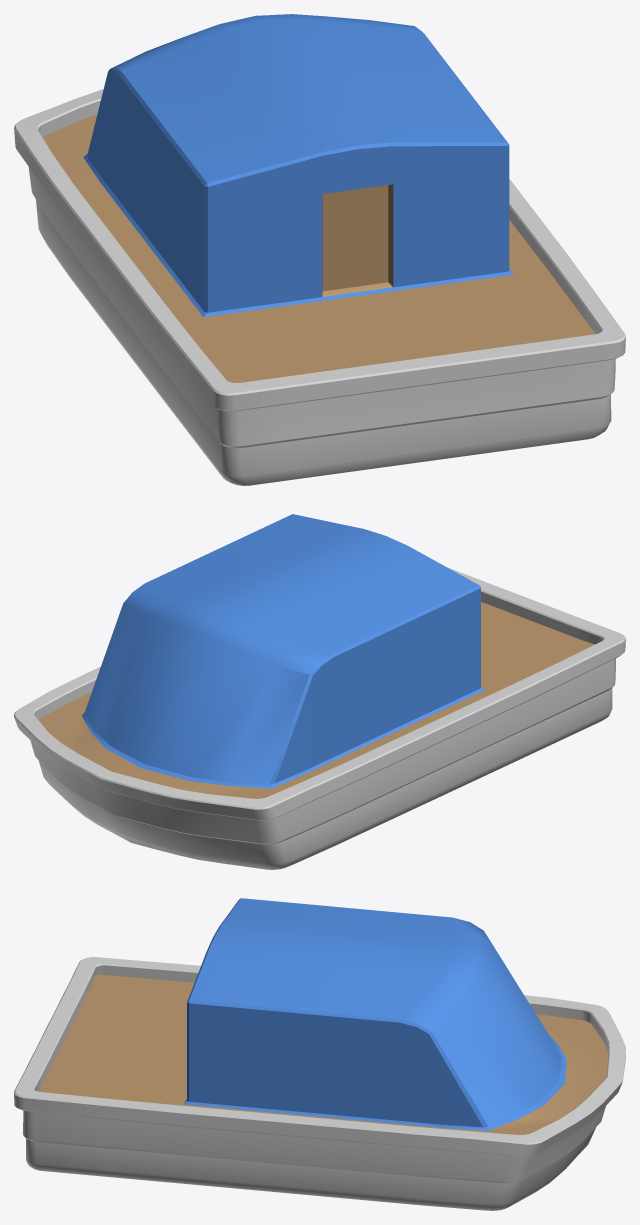
Rendered from boat.fbx.
3 renders of one model, top to bottom at view 1: azimuth 30°, elevation 25°; view 2: azimuth 150°, elevation 25°; view 3: azimuth 270°, elevation 25°, orthographic. The views are drawn at different scales.
Parts seen in each view (by area): view 1: Cube.002; view 2: Cube.002; view 3: Cube.002.
Part boxes in pixels (<box>): Cube.002: <box>14,14,625,485</box>; Cube.002: <box>14,514,625,869</box>; Cube.002: <box>14,898,625,1210</box>.
Size of the model in its own units: 229 by 107 by 321.
